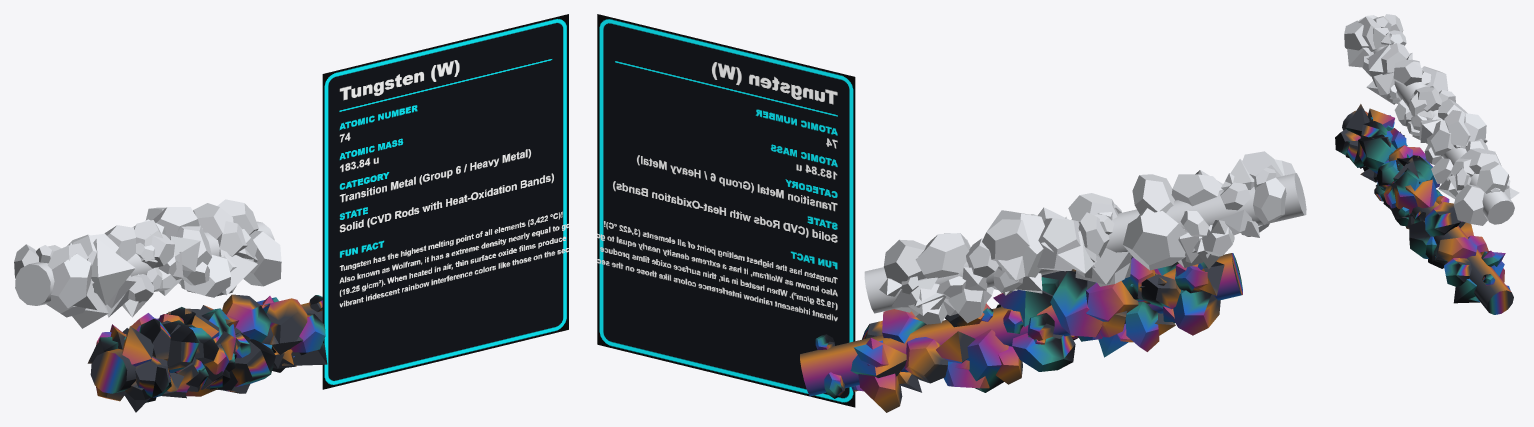
File: tungsten.glb
3 views of the same model, side by side, from view 1: azimuth 30°, elevation 25°; view 2: azimuth 150°, elevation 25°; view 3: azimuth 270°, elevation 25° (orthographic). The views are drawn at different scales.
Parts seen in each view (by area): view 1: Mesh_173, Mesh_0, Mesh_86, Mesh_51, Mesh_50, Mesh_95, Mesh_123, Mesh_60, Mesh_90, Mesh_112, Mesh_75, Mesh_111 (+20 smaller); view 2: Mesh_173, Mesh_86, Mesh_0, Mesh_43, Mesh_158, Mesh_39, Mesh_152, Mesh_70, Mesh_130, Mesh_128, Mesh_87, Mesh_78 (+25 smaller); view 3: Mesh_86, Mesh_0, Mesh_60, Mesh_112, Mesh_95, Mesh_157, Mesh_123, Mesh_24, Mesh_22, Mesh_162, Mesh_79, Mesh_52 (+40 smaller).
Boxes of the visible parts, x1,y1,x2,y2 form: Mesh_173: [322, 14, 568, 389]; Mesh_0: [15, 221, 274, 305]; Mesh_86: [90, 302, 322, 393]; Mesh_51: [46, 253, 91, 312]; Mesh_50: [91, 238, 135, 305]; Mesh_95: [222, 294, 270, 342]; Mesh_123: [263, 298, 307, 343]; Mesh_60: [243, 230, 281, 286]; Mesh_90: [231, 339, 275, 386]; Mesh_112: [163, 320, 199, 372]; Mesh_75: [180, 254, 230, 297]; Mesh_111: [135, 357, 168, 397]; Mesh_173: [597, 14, 855, 407]; Mesh_86: [800, 253, 1242, 396]; Mesh_0: [864, 173, 1306, 313]; Mesh_43: [1123, 211, 1186, 270]; Mesh_158: [1050, 271, 1102, 337]; Mesh_39: [916, 233, 969, 278]; Mesh_152: [1012, 333, 1075, 371]; Mesh_70: [1037, 218, 1080, 271]; Mesh_130: [1173, 290, 1220, 335]; Mesh_128: [966, 329, 1008, 392]; Mesh_87: [905, 337, 947, 383]; Mesh_78: [982, 219, 1029, 260]; Mesh_86: [1342, 110, 1513, 314]; Mesh_0: [1359, 15, 1514, 224]; Mesh_60: [1453, 184, 1487, 225]; Mesh_112: [1358, 134, 1396, 173]; Mesh_95: [1425, 202, 1461, 236]; Mesh_157: [1390, 168, 1426, 213]; Mesh_123: [1436, 237, 1477, 263]; Mesh_24: [1477, 161, 1509, 193]; Mesh_22: [1444, 110, 1470, 148]; Mesh_162: [1444, 258, 1471, 286]; Mesh_79: [1427, 120, 1453, 156]; Mesh_52: [1393, 59, 1422, 86].
Bounding box in the file's own units: 2.84 × 1.4 × 1.03.
3 materials, 2 textured.
